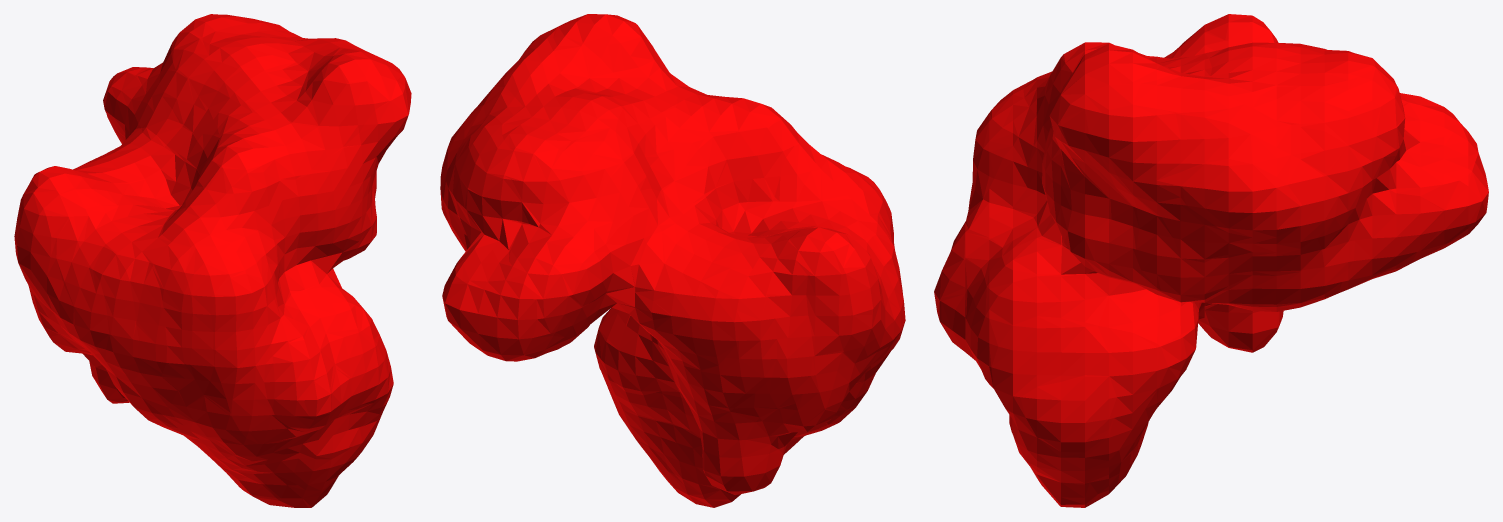
Rendered from rpsC_coarse.dae.
The picture shows the model from 3 angles, left to right: view 1: azimuth 30°, elevation 25°; view 2: azimuth 150°, elevation 25°; view 3: azimuth 270°, elevation 25°; orthographic projection. The views are drawn at different scales.
Parts seen in each view (by area): view 1: rpsC; view 2: rpsC; view 3: rpsC.
Part boxes in pixels (bbox=[...]): rpsC: bbox=[14, 14, 411, 507]; rpsC: bbox=[440, 14, 905, 507]; rpsC: bbox=[934, 14, 1488, 507].
Size of the model in its own units: 50.98 by 56.18 by 57.08.
